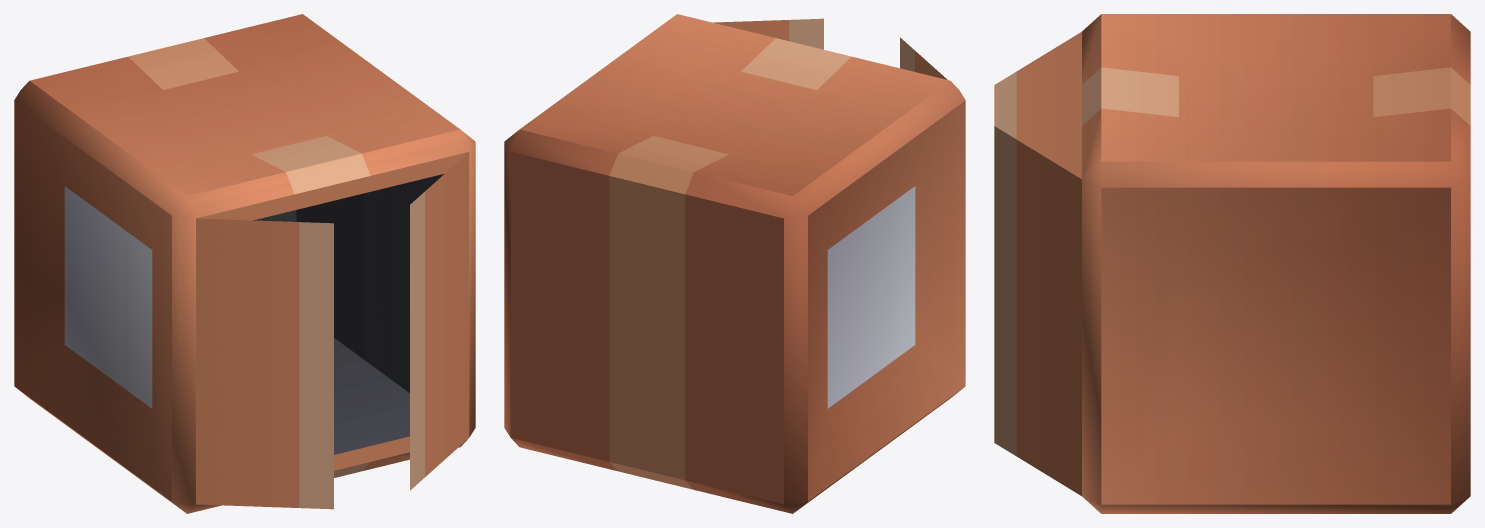
Rendered from survival-chest-open.glb.
The picture shows the model from 3 angles, left to right: view 1: azimuth 30°, elevation 25°; view 2: azimuth 150°, elevation 25°; view 3: azimuth 270°, elevation 25°; orthographic projection. The views are drawn at different scales.
Parts seen in each view (by area): view 1: box-open; view 2: box-open; view 3: box-open.
Part boxes in pixels (bbox=[...]): box-open: bbox=[14, 14, 475, 513]; box-open: bbox=[504, 14, 965, 513]; box-open: bbox=[994, 14, 1470, 513].
Size of the model in its own units: 1.14 by 1.14 by 1.4.
Materials: 1 (1 with a texture image).
